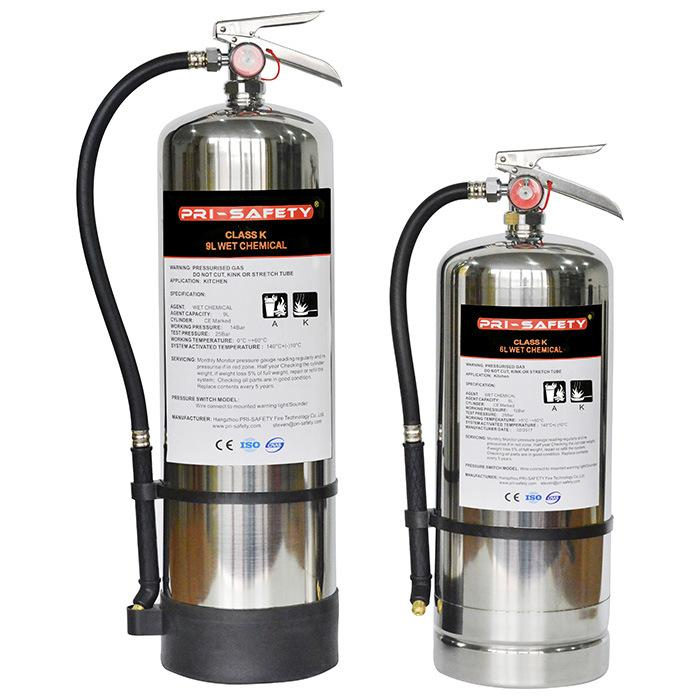Fire Extinguisher: (80, 10, 354, 690), (382, 110, 622, 696)
